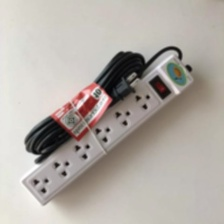three_eye_plug: (18, 53, 199, 208)
